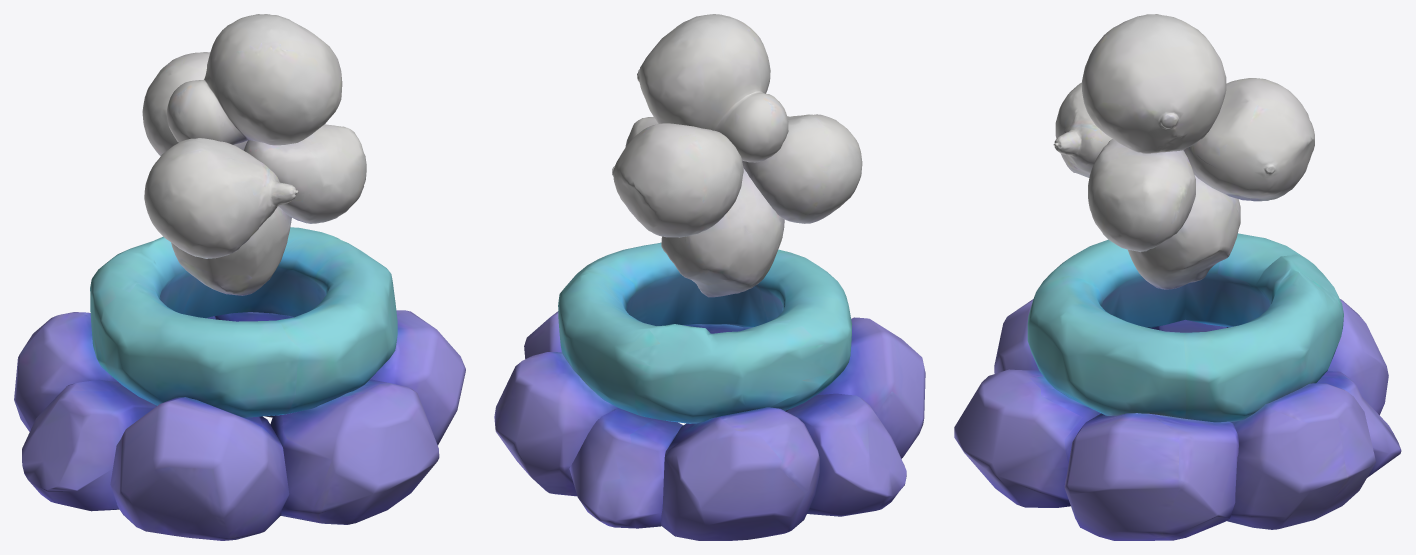
File: steam_vent.glb
3 renders of one model, left to right at view 1: azimuth 30°, elevation 25°; view 2: azimuth 150°, elevation 25°; view 3: azimuth 270°, elevation 25°, orthographic. The views are drawn at different scales.
Parts seen in each view (by area): view 1: tripo_node_b2d7ac95-4f0f-44ee-a0c5-288f9c9e5dd2; view 2: tripo_node_b2d7ac95-4f0f-44ee-a0c5-288f9c9e5dd2; view 3: tripo_node_b2d7ac95-4f0f-44ee-a0c5-288f9c9e5dd2.
Boxes of the visible parts, x1,y1,x2,y2 form: tripo_node_b2d7ac95-4f0f-44ee-a0c5-288f9c9e5dd2: (14, 14, 465, 540); tripo_node_b2d7ac95-4f0f-44ee-a0c5-288f9c9e5dd2: (494, 14, 925, 540); tripo_node_b2d7ac95-4f0f-44ee-a0c5-288f9c9e5dd2: (954, 14, 1401, 540).
Bounding box in the file's own units: 0.9277 × 0.998 × 0.8965.
1 material, 1 textured.
